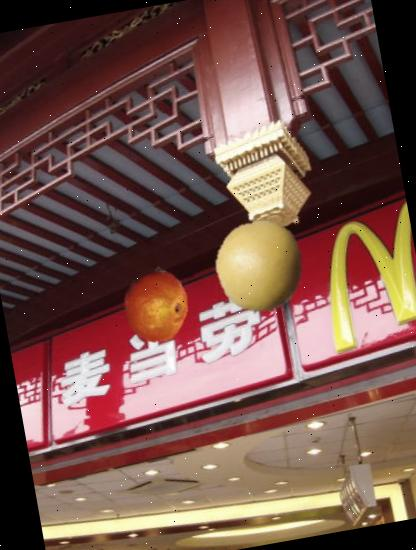Clementine: (111, 259, 199, 347)
Grapefruit: (204, 212, 313, 322)
